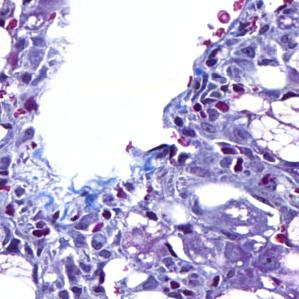ballooning: (245, 93, 297, 166)
